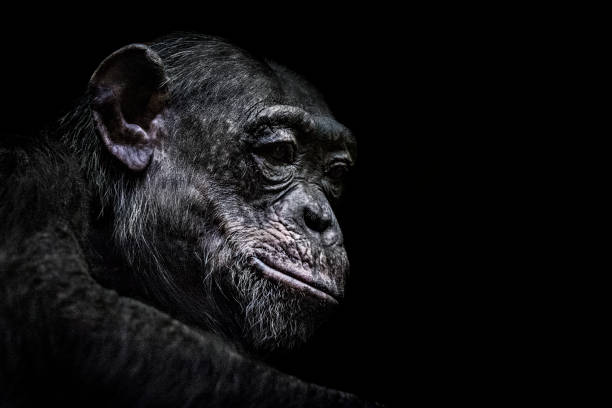chimpanzee: (44, 31, 388, 387)
